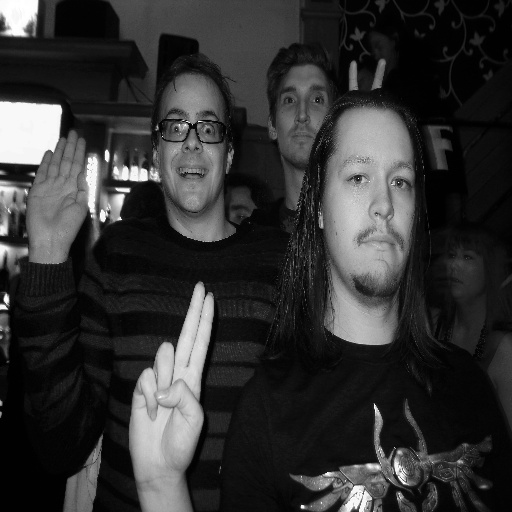hand: (120, 289, 215, 491), (24, 128, 88, 256), (349, 55, 386, 90)
